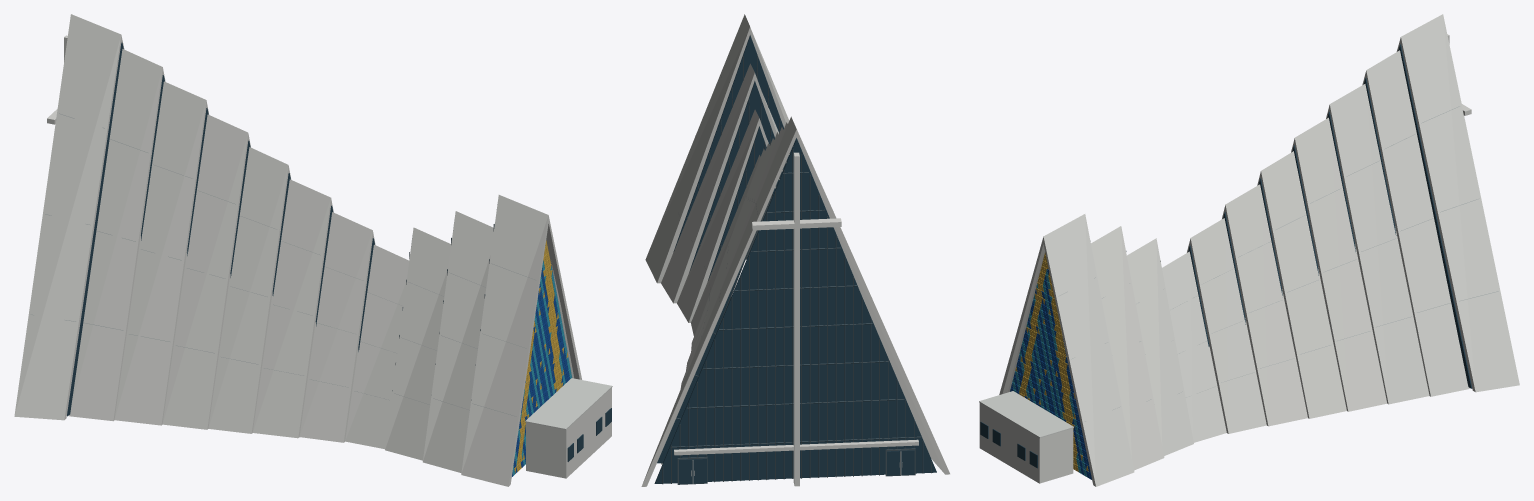
Rendered from arctic-cathedral-near.glb.
3 renders of one model, left to right at view 1: azimuth 30°, elevation 25°; view 2: azimuth 150°, elevation 25°; view 3: azimuth 270°, elevation 25°, orthographic. The views are drawn at different scales.
Visible parts, largest first — view 1: arctic-cathedral-0-shell, arctic-cathedral-0-glass, arctic-cathedral-0-blue, arctic-cathedral-0-edge, arctic-cathedral-0-glow, arctic-cathedral-0-light, arctic-cathedral-0-seam; view 2: arctic-cathedral-0-glass, arctic-cathedral-0-shell, arctic-cathedral-0-frame; view 3: arctic-cathedral-0-shell, arctic-cathedral-0-glass, arctic-cathedral-0-blue, arctic-cathedral-0-glow, arctic-cathedral-0-light, arctic-cathedral-0-edge, arctic-cathedral-0-seam.
Part boxes in pixels (x1,y1,x2,y2): arctic-cathedral-0-shell: (14,14,611,486); arctic-cathedral-0-glass: (67,42,611,461); arctic-cathedral-0-blue: (512,268,569,476); arctic-cathedral-0-edge: (525,378,612,429); arctic-cathedral-0-glow: (514,240,568,473); arctic-cathedral-0-light: (512,261,572,475); arctic-cathedral-0-seam: (30,113,535,416); arctic-cathedral-0-glass: (654,35,936,484); arctic-cathedral-0-shell: (641,14,949,486); arctic-cathedral-0-frame: (662,55,931,484); arctic-cathedral-0-shell: (979,14,1519,486); arctic-cathedral-0-glass: (980,44,1472,468); arctic-cathedral-0-blue: (1010,269,1091,479); arctic-cathedral-0-glow: (1015,252,1088,471); arctic-cathedral-0-light: (1012,269,1086,476); arctic-cathedral-0-edge: (979,391,1073,437); arctic-cathedral-0-seam: (1058,106,1498,421).
Bounding box in the file's own units: 46.38 × 35 × 53.39.
